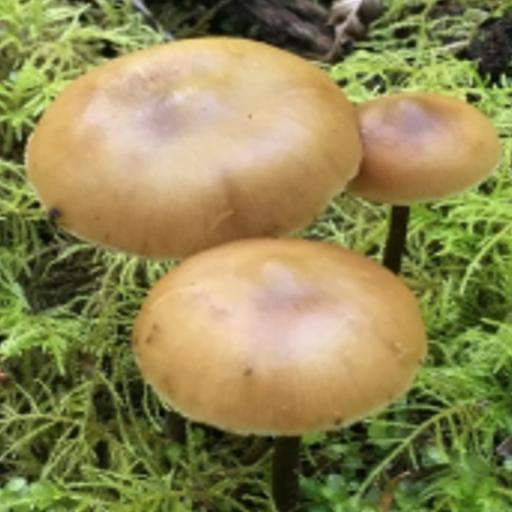mushroom: (30, 31, 506, 440)
